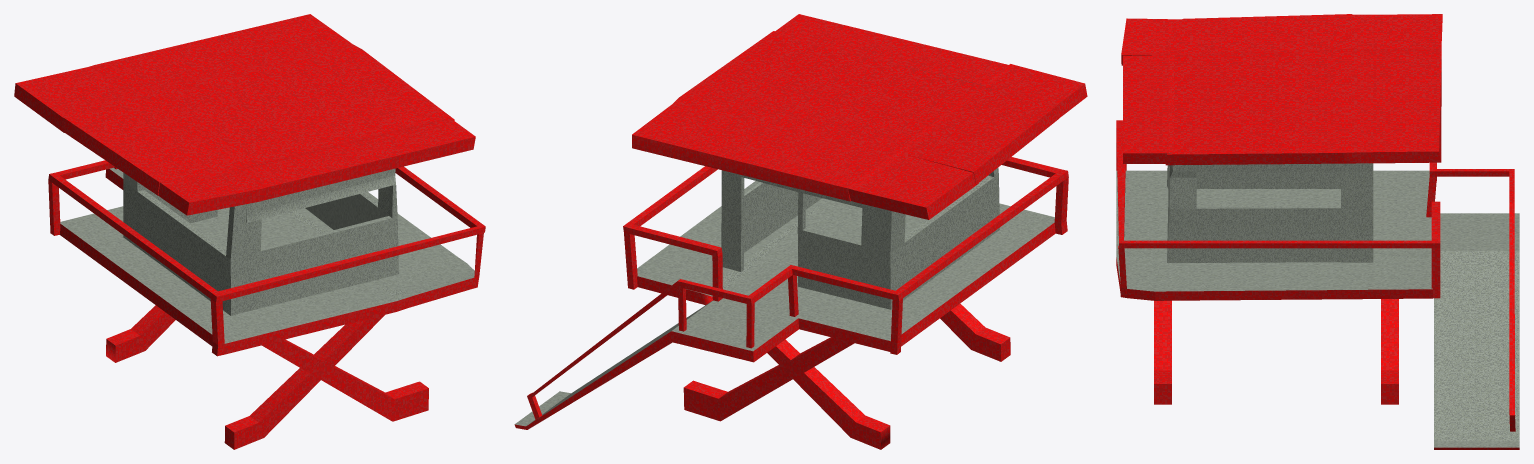
File: BLOCKYGON_BEACH_GUARD_HOUSE (1).fbx
The picture shows the model from 3 angles, left to right: view 1: azimuth 30°, elevation 25°; view 2: azimuth 150°, elevation 25°; view 3: azimuth 270°, elevation 25°; orthographic projection. The views are drawn at different scales.
Visible parts, largest first — view 1: BLOCKYGON_BEACH_GUARD_HOUSE__1_; view 2: BLOCKYGON_BEACH_GUARD_HOUSE__1_; view 3: BLOCKYGON_BEACH_GUARD_HOUSE__1_.
Boxes of the visible parts, box(x1,y1,x2,y2) form: BLOCKYGON_BEACH_GUARD_HOUSE__1_: box(14, 14, 485, 449); BLOCKYGON_BEACH_GUARD_HOUSE__1_: box(514, 14, 1087, 449); BLOCKYGON_BEACH_GUARD_HOUSE__1_: box(1116, 14, 1519, 449).
Bounding box in the file's own units: 758 × 557 × 751.
